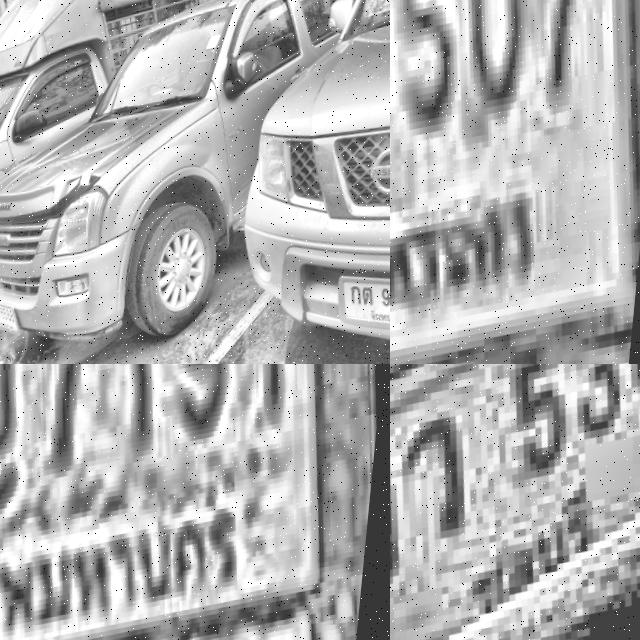license-plate: (0, 364, 390, 640), (390, 0, 640, 364), (390, 364, 640, 640), (337, 261, 390, 360), (0, 293, 34, 345)
